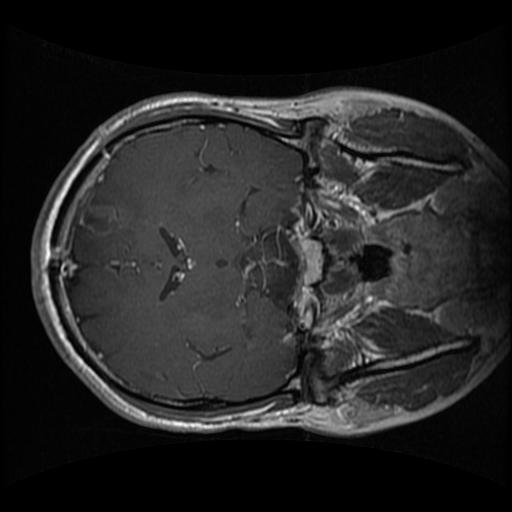glioma: (74, 193, 124, 241)
